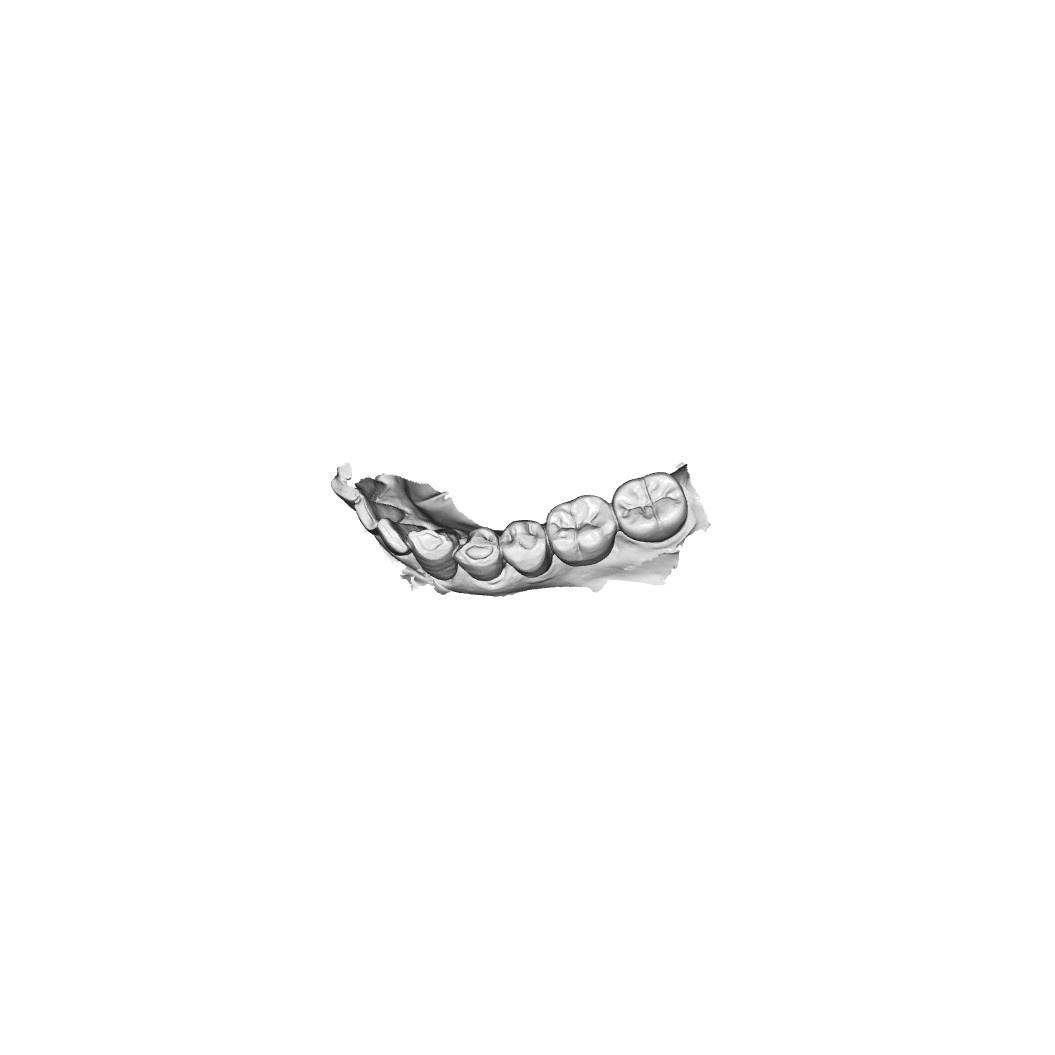canine: (407, 524, 455, 582)
incisor: (353, 496, 412, 533), (377, 519, 412, 558)
molar: (614, 468, 692, 544), (544, 490, 617, 567)
premolar: (502, 516, 553, 580), (455, 527, 502, 584)
